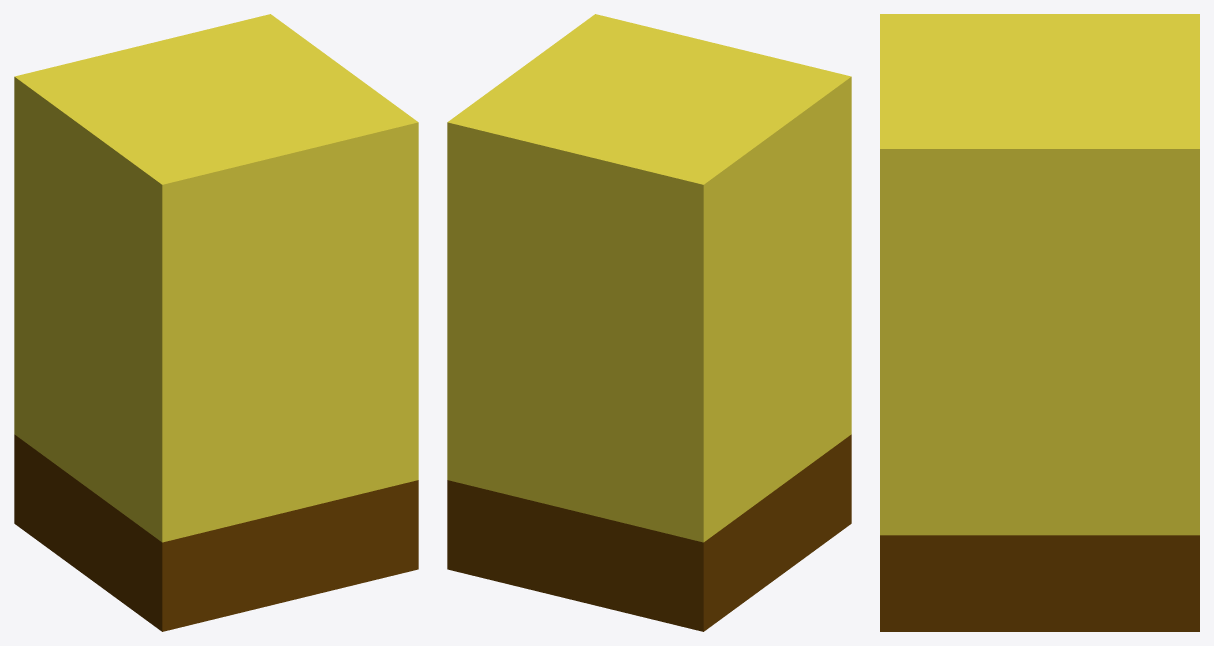
The model's file is melman-0.obj.
3 renders of one model, left to right at view 1: azimuth 30°, elevation 25°; view 2: azimuth 150°, elevation 25°; view 3: azimuth 270°, elevation 25°, orthographic. The views are drawn at different scales.
Bounding box in the file's own units: 0.6 × 1 × 0.6.
1 material, 1 textured.
